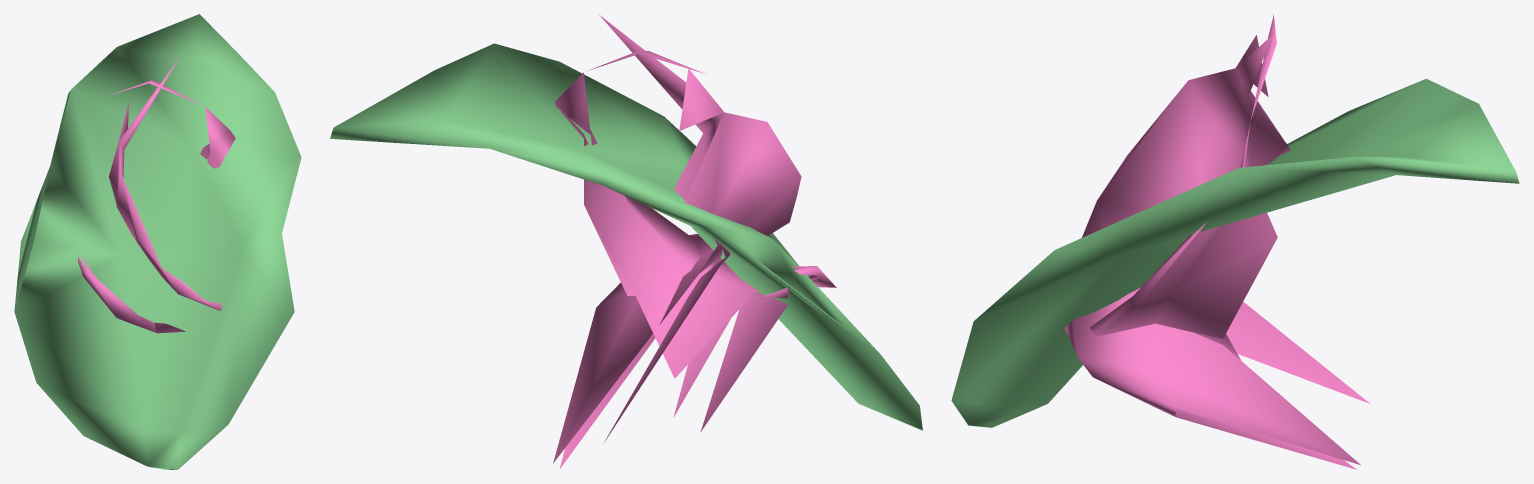
The model's file is flower_02_rose_detach.glb.
The picture shows the model from 3 angles, left to right: view 1: azimuth 30°, elevation 25°; view 2: azimuth 150°, elevation 25°; view 3: azimuth 270°, elevation 25°; orthographic projection. The views are drawn at different scales.
Visible parts, largest first — view 1: Piece_Leaf, Piece_Petal_B, Piece_Petal_A; view 2: Piece_Leaf, Piece_Petal_B, Piece_Petal_A; view 3: Piece_Leaf, Piece_Petal_B, Piece_Petal_A.
Part boxes in pixels (x1,y1,x2,y2): Piece_Leaf: (14,14,301,469); Piece_Petal_B: (109,57,221,310); Piece_Petal_A: (78,80,235,333); Piece_Leaf: (330,43,922,430); Piece_Petal_B: (553,15,801,469); Piece_Petal_A: (555,51,836,432); Piece_Leaf: (951,78,1519,427); Piece_Petal_B: (1064,35,1369,469); Piece_Petal_A: (1090,14,1277,360).
Bounding box in the file's own units: 0.2165 × 0.2307 × 0.2512.
